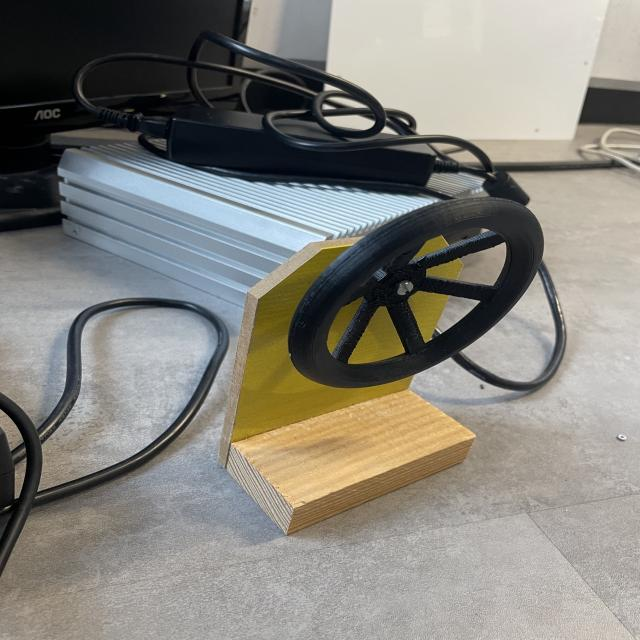Wheel Handle Valve Threaded: (285, 195, 563, 392)
